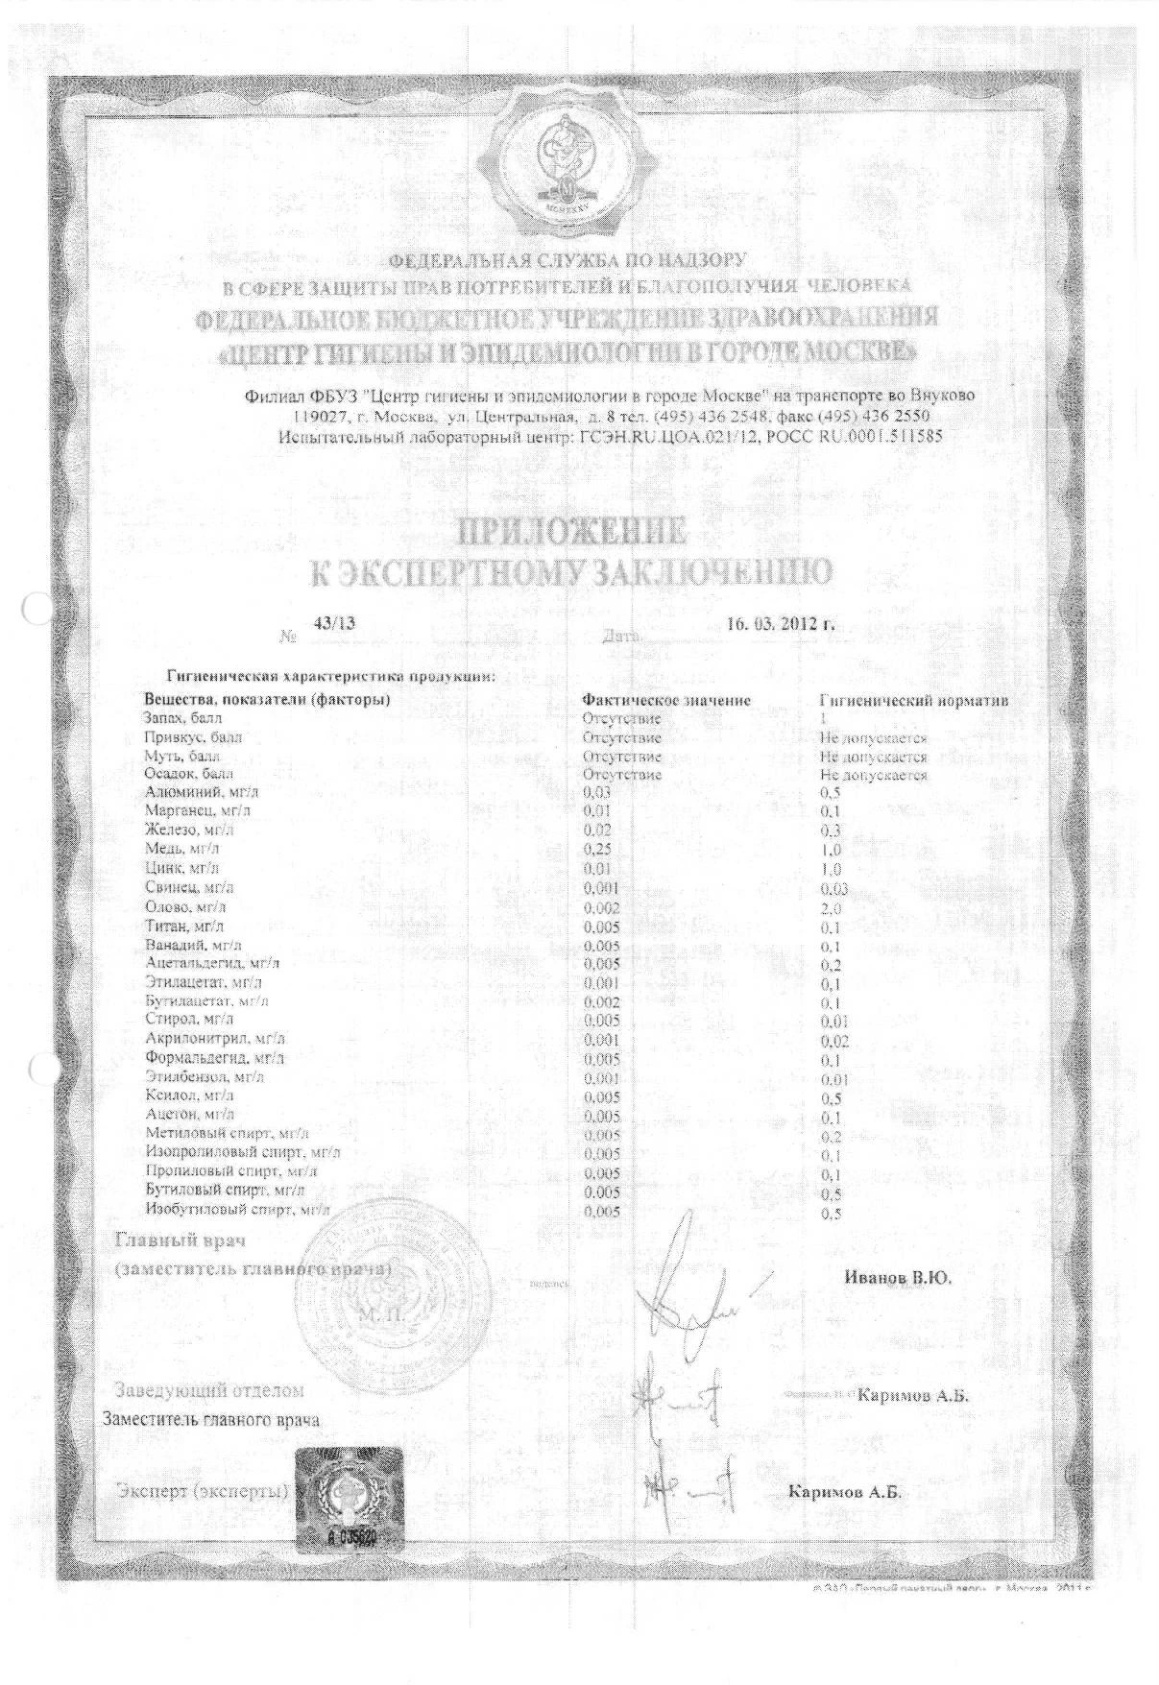nolines: (140, 690, 1017, 1221)
